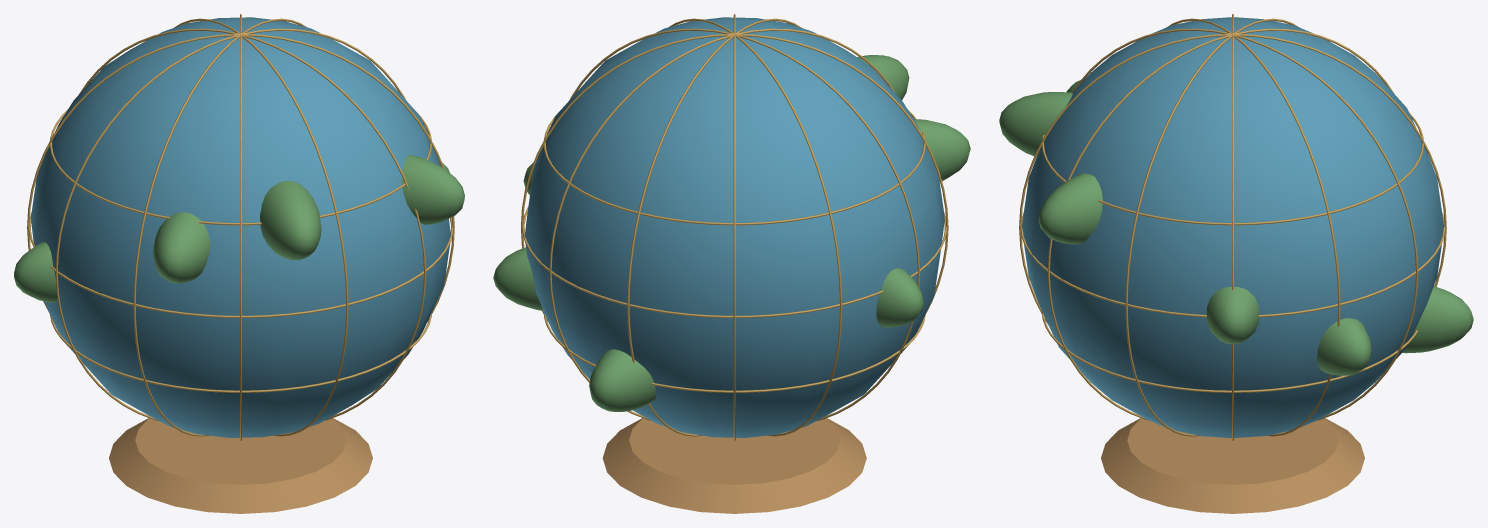
The model's file is globe.glb.
3 views of the same model, side by side, from view 1: azimuth 30°, elevation 25°; view 2: azimuth 150°, elevation 25°; view 3: azimuth 270°, elevation 25° (orthographic).
Bounding box in the file's own units: 3.63 × 3.54 × 3.59.
